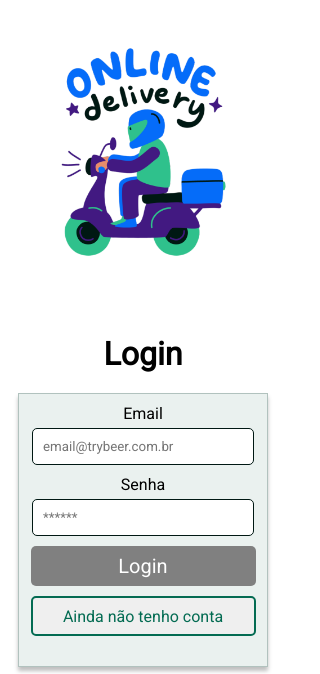
Test case: Testa a tela de login › Retorna mensagem de login inválido
Type "trybe@trybe.com" into the field with test id "common_login__input-email" at (143,446), box [32,428,254,465]
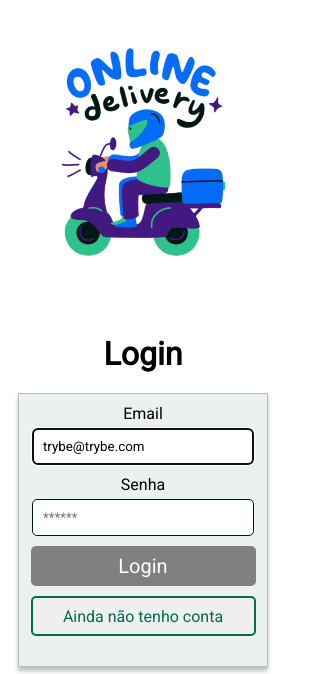
Type "$#zebirita#$" into the password field with test id "common_login__input-password" at (143,518), box [32,499,254,536]
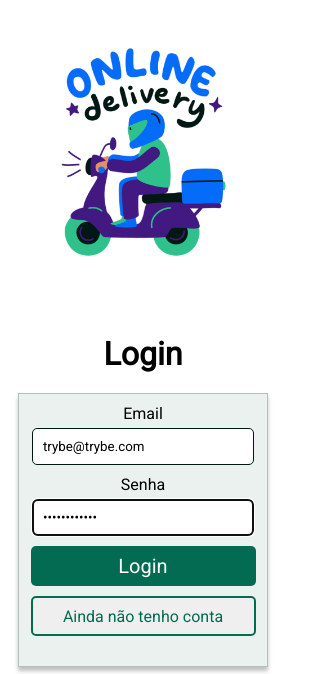
Click the button with test id "common_login__button-login" at (143,566), box [30,546,256,586]
(page scrolled)
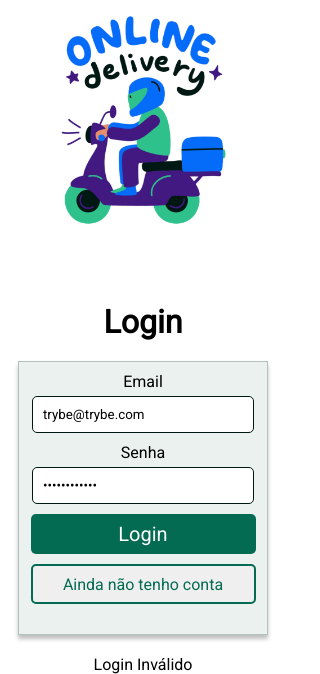
Expected: the text "Login Inválido" is shown, [94,655,192,673]
